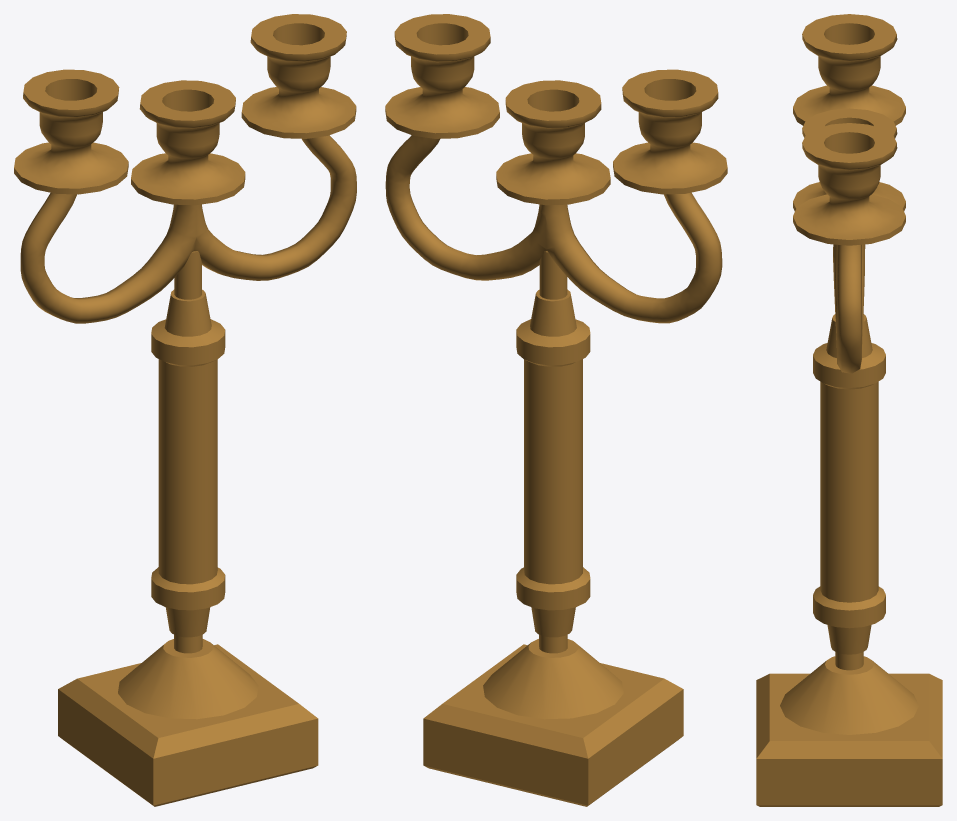
The model's file is obj_treasure_07.fbx.
The picture shows the model from 3 angles, left to right: view 1: azimuth 30°, elevation 25°; view 2: azimuth 150°, elevation 25°; view 3: azimuth 270°, elevation 25°; orthographic projection. The views are drawn at different scales.
Parts seen in each view (by area): view 1: Cylinder.010, Cube.034, Cube.036, Cylinder.013, Cylinder.011, Cylinder.012; view 2: Cylinder.010, Cube.034, Cube.036, Cylinder.012, Cylinder.013, Cylinder.011; view 3: Cylinder.010, Cube.034, Cylinder.013, Cylinder.012, Cube.036, Cylinder.011.
Part boxes in pixels (x1,y1,x2,y2): Cylinder.010: [118, 251, 258, 719]; Cube.034: [58, 644, 318, 806]; Cube.036: [20, 135, 356, 323]; Cylinder.013: [241, 14, 356, 138]; Cylinder.011: [131, 80, 245, 205]; Cylinder.012: [14, 69, 128, 194]; Cylinder.010: [483, 251, 623, 719]; Cube.034: [423, 644, 683, 806]; Cube.036: [385, 135, 722, 323]; Cylinder.012: [613, 69, 727, 194]; Cylinder.013: [385, 14, 499, 138]; Cylinder.011: [496, 80, 610, 205]; Cylinder.010: [780, 314, 918, 734]; Cube.034: [756, 673, 942, 806]; Cylinder.013: [793, 123, 905, 245]; Cylinder.012: [793, 14, 905, 125]; Cube.036: [833, 244, 865, 373]; Cylinder.011: [793, 108, 905, 211].
Size of the model in its own units: 6.86 by 13.62 by 3.39.
